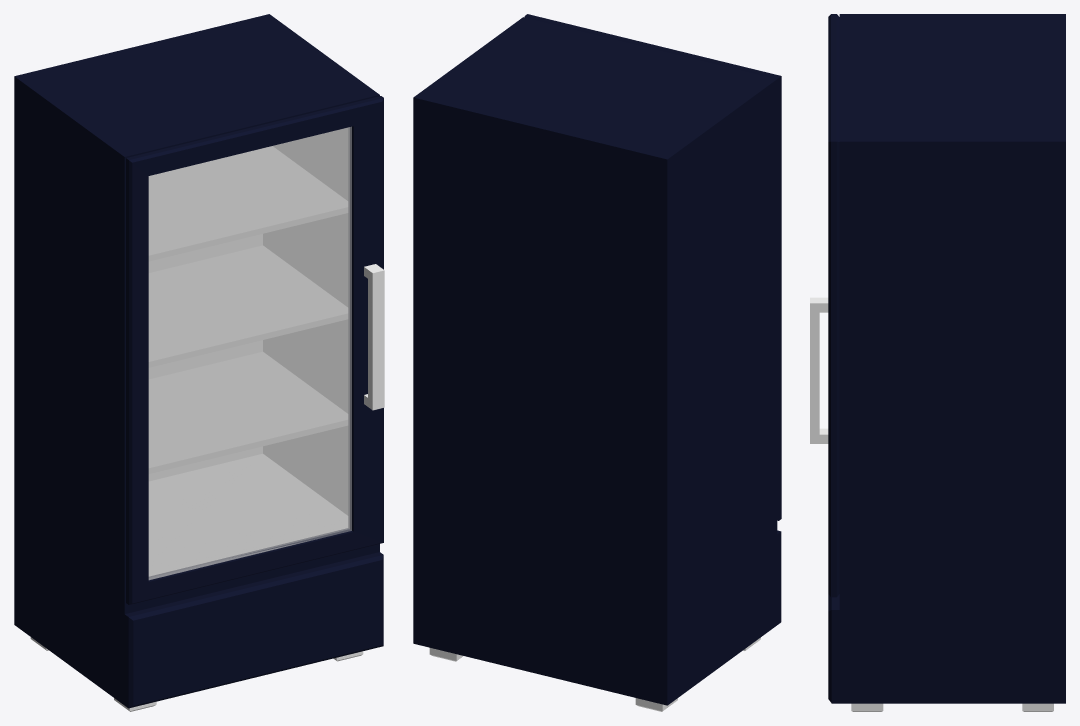
Rendered from drinkFreezer.fbx.
The picture shows the model from 3 angles, left to right: view 1: azimuth 30°, elevation 25°; view 2: azimuth 150°, elevation 25°; view 3: azimuth 270°, elevation 25°; orthographic projection. The views are drawn at different scales.
Parts seen in each view (by area): view 1: Freezer, Door, shelf 1, shelf 2, shelf 3; view 2: Freezer, Door; view 3: Freezer, Door.
Boxes of the visible parts, box(x1,y1,x2,y2) form: Freezer: box(14, 14, 383, 711); Door: box(126, 96, 384, 604); shelf 1: box(149, 352, 347, 473); shelf 2: box(149, 246, 347, 367); shelf 3: box(149, 146, 347, 260); Freezer: box(413, 17, 781, 711); Door: box(524, 14, 781, 520); Freezer: box(828, 14, 1065, 711); Door: box(810, 14, 839, 597).
Size of the model in its own units: 2.93 by 6.18 by 2.48.
